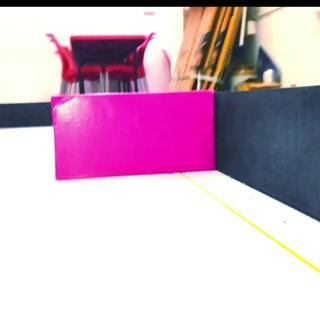xparking: (49, 94, 214, 181)
